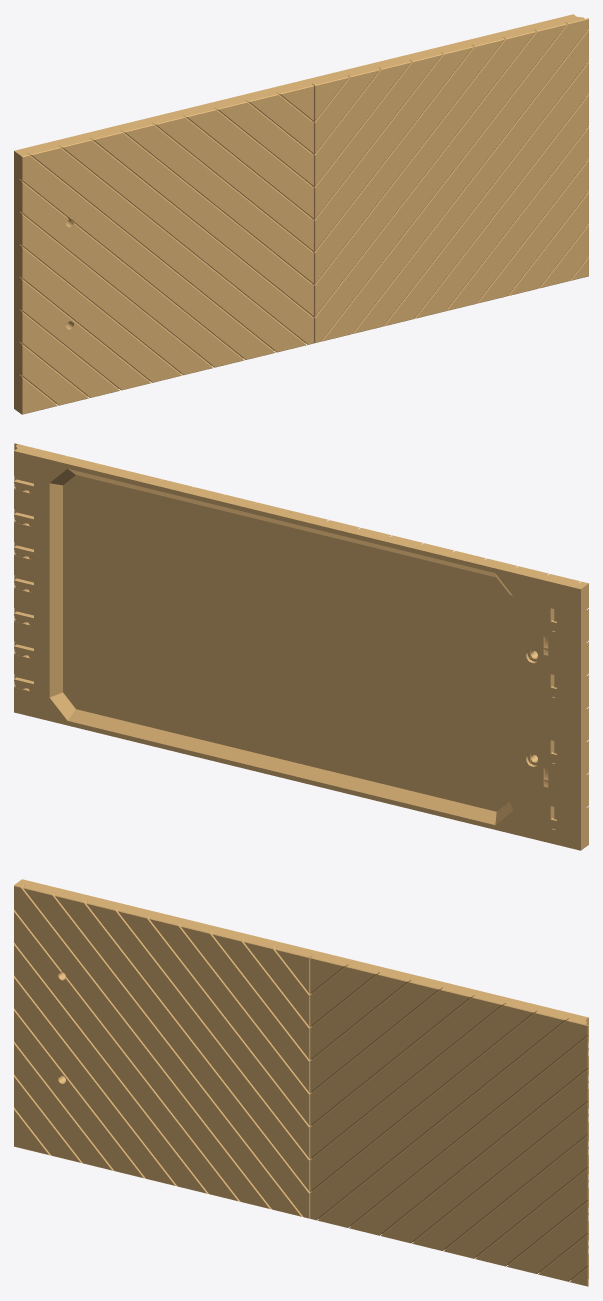
The model's file is Door_Chevron_3W-2H_RH.lib.glb.
The picture shows the model from 3 angles, top to bottom: view 1: azimuth 30°, elevation 25°; view 2: azimuth 150°, elevation 25°; view 3: azimuth 330°, elevation 25°; orthographic projection.
Parts seen in each view (by area): view 1: Door_Chevron_3W-2H_RH; view 2: Door_Chevron_3W-2H_RH; view 3: Door_Chevron_3W-2H_RH.
Boxes of the visible parts, x1=… form: Door_Chevron_3W-2H_RH: x1=14, y1=14, x2=588, y2=414; Door_Chevron_3W-2H_RH: x1=14, y1=443, x2=588, y2=850; Door_Chevron_3W-2H_RH: x1=14, y1=879, x2=588, y2=1286.
Bounding box in the file's own units: 255 × 111 × 6.51.
